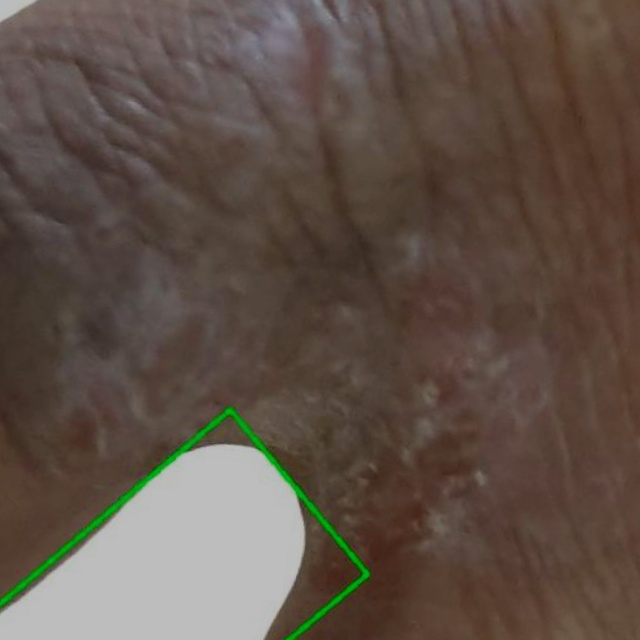Eczema: (0, 410, 368, 639)
